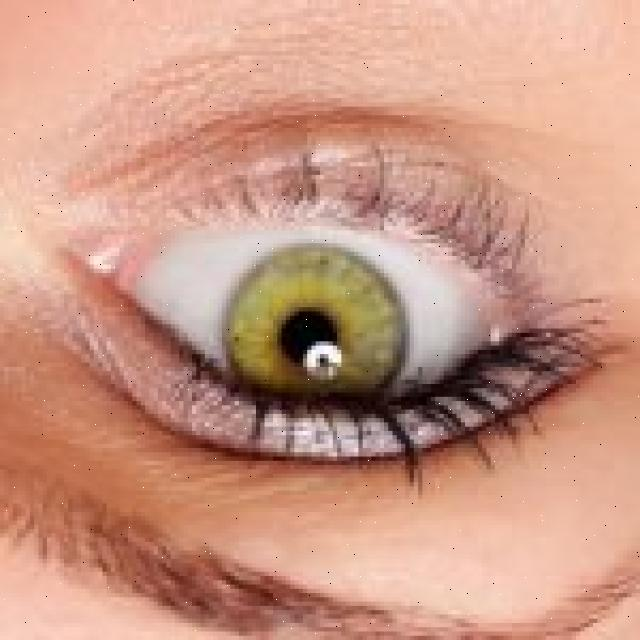Normal: (222, 243, 408, 434)
